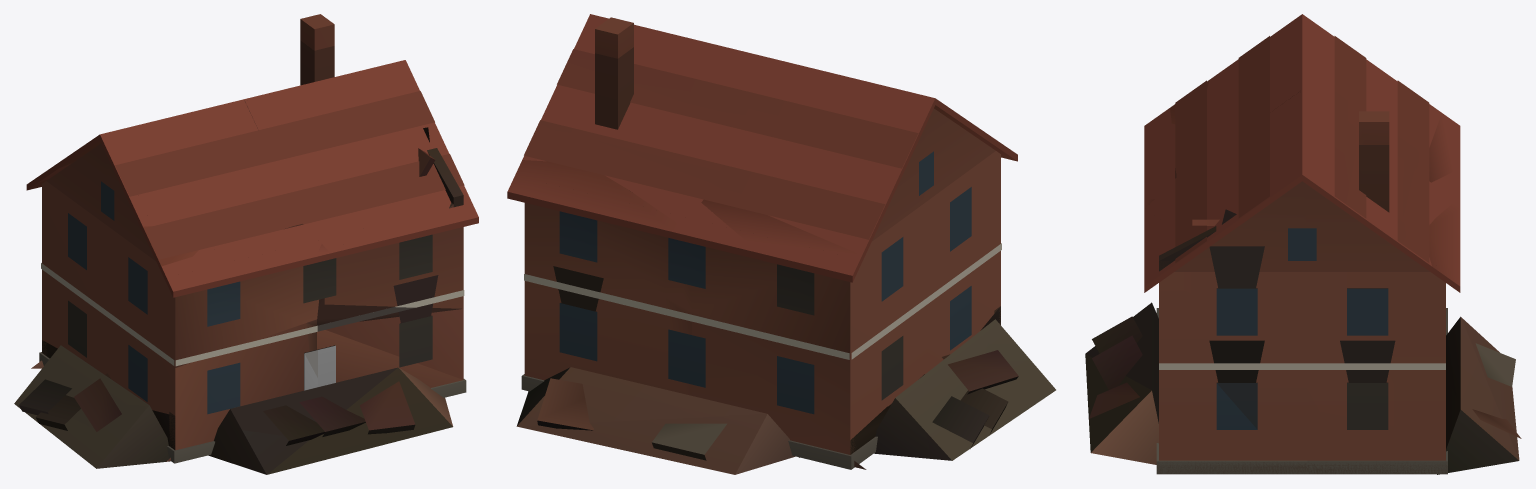
File: bld_any_house_a_fractured.glb
The picture shows the model from 3 angles, left to right: view 1: azimuth 30°, elevation 25°; view 2: azimuth 150°, elevation 25°; view 3: azimuth 270°, elevation 25°; orthographic projection. The views are drawn at different scales.
Parts seen in each view (by area): view 1: bld_any_house_a_DMG_mesh, bld_any_house_a_FRAC_10_mesh, bld_any_house_a_RUIN_LOD0_mesh, bld_any_house_a_FRAC_08_mesh, bld_any_house_a_RUIN_LOD1_mesh, bld_any_house_a_FRAC_04_mesh, bld_any_house_a_FRAC_06_mesh, bld_any_house_a_FRAC_05_mesh, bld_any_house_a_FRAC_00_mesh, bld_any_house_a_FRAC_01_mesh, bld_any_house_a_FRAC_09_mesh, bld_any_house_a_FRAC_02_mesh (+1 smaller); view 2: bld_any_house_a_DMG_mesh, bld_any_house_a_RUIN_LOD0_mesh, bld_any_house_a_FRAC_11_mesh, bld_any_house_a_FRAC_09_mesh, bld_any_house_a_FRAC_05_mesh, bld_any_house_a_RUIN_LOD1_mesh, bld_any_house_a_FRAC_04_mesh, bld_any_house_a_FRAC_01_mesh, bld_any_house_a_FRAC_00_mesh, bld_any_house_a_FRAC_03_mesh, bld_any_house_a_FRAC_08_mesh, bld_any_house_a_FRAC_07_mesh; view 3: bld_any_house_a_DMG_mesh, bld_any_house_a_RUIN_LOD0_mesh, bld_any_house_a_FRAC_06_mesh, bld_any_house_a_FRAC_07_mesh, bld_any_house_a_FRAC_10_mesh, bld_any_house_a_FRAC_02_mesh, bld_any_house_a_FRAC_03_mesh, bld_any_house_a_FRAC_11_mesh, bld_any_house_a_RUIN_LOD1_mesh, bld_any_house_a_FRAC_08_mesh, bld_any_house_a_FRAC_09_mesh, bld_any_house_a_FRAC_04_mesh (+1 smaller).
Boxes of the visible parts, bbox=[...] form: bld_any_house_a_DMG_mesh: bbox=[26, 24, 466, 463]; bld_any_house_a_FRAC_10_mesh: bbox=[245, 60, 451, 253]; bld_any_house_a_RUIN_LOD0_mesh: bbox=[19, 148, 463, 474]; bld_any_house_a_FRAC_08_mesh: bbox=[100, 112, 301, 265]; bld_any_house_a_RUIN_LOD1_mesh: bbox=[14, 40, 453, 474]; bld_any_house_a_FRAC_04_mesh: bbox=[105, 219, 336, 367]; bld_any_house_a_FRAC_06_mesh: bbox=[324, 158, 478, 308]; bld_any_house_a_FRAC_05_mesh: bbox=[26, 179, 106, 313]; bld_any_house_a_FRAC_00_mesh: bbox=[107, 319, 240, 462]; bld_any_house_a_FRAC_01_mesh: bbox=[39, 268, 107, 374]; bld_any_house_a_FRAC_09_mesh: bbox=[36, 99, 243, 220]; bld_any_house_a_FRAC_02_mesh: bbox=[318, 315, 465, 388]; bld_any_house_a_DMG_mesh: bbox=[507, 29, 1017, 469]; bld_any_house_a_RUIN_LOD0_mesh: bbox=[516, 266, 1030, 474]; bld_any_house_a_FRAC_11_mesh: bbox=[541, 16, 772, 220]; bld_any_house_a_FRAC_09_mesh: bbox=[713, 89, 934, 255]; bld_any_house_a_FRAC_05_mesh: bbox=[668, 199, 923, 357]; bld_any_house_a_RUIN_LOD1_mesh: bbox=[595, 47, 1055, 460]; bld_any_house_a_FRAC_04_mesh: bbox=[923, 146, 1017, 307]; bld_any_house_a_FRAC_01_mesh: bbox=[777, 306, 924, 469]; bld_any_house_a_FRAC_00_mesh: bbox=[924, 252, 1000, 374]; bld_any_house_a_FRAC_03_mesh: bbox=[559, 303, 705, 387]; bld_any_house_a_FRAC_08_mesh: bbox=[865, 81, 998, 193]; bld_any_house_a_FRAC_07_mesh: bbox=[507, 156, 680, 239]; bld_any_house_a_DMG_mesh: bbox=[1144, 14, 1460, 461]; bld_any_house_a_RUIN_LOD0_mesh: bbox=[1085, 145, 1521, 474]; bld_any_house_a_FRAC_06_mesh: bbox=[1144, 210, 1316, 383]; bld_any_house_a_FRAC_07_mesh: bbox=[1308, 201, 1460, 382]; bld_any_house_a_FRAC_10_mesh: bbox=[1144, 91, 1304, 244]; bld_any_house_a_FRAC_02_mesh: bbox=[1156, 383, 1307, 474]; bld_any_house_a_FRAC_03_mesh: bbox=[1307, 382, 1447, 474]; bld_any_house_a_FRAC_11_mesh: bbox=[1300, 90, 1449, 249]; bld_any_house_a_RUIN_LOD1_mesh: bbox=[1090, 219, 1387, 464]; bld_any_house_a_FRAC_08_mesh: bbox=[1172, 14, 1303, 177]; bld_any_house_a_FRAC_09_mesh: bbox=[1302, 16, 1441, 169]; bld_any_house_a_FRAC_04_mesh: bbox=[1148, 110, 1176, 199].
Bounding box in the file's own units: 12.59 × 10.68 × 12.16.
